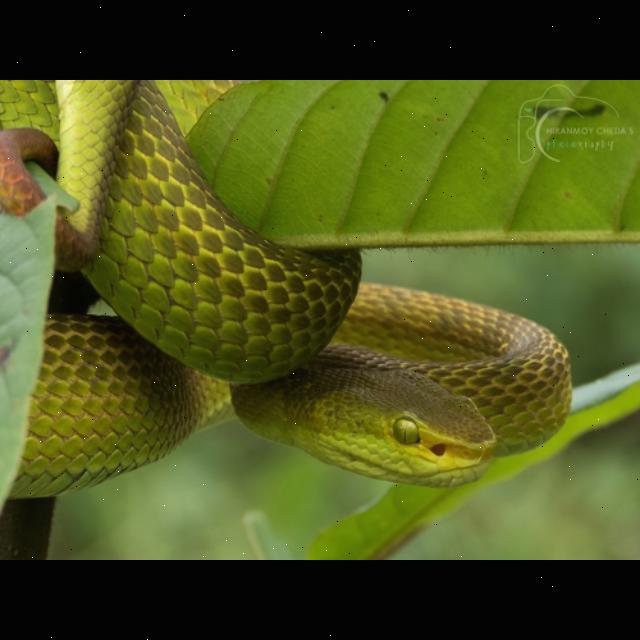snake: (1, 80, 577, 503)
